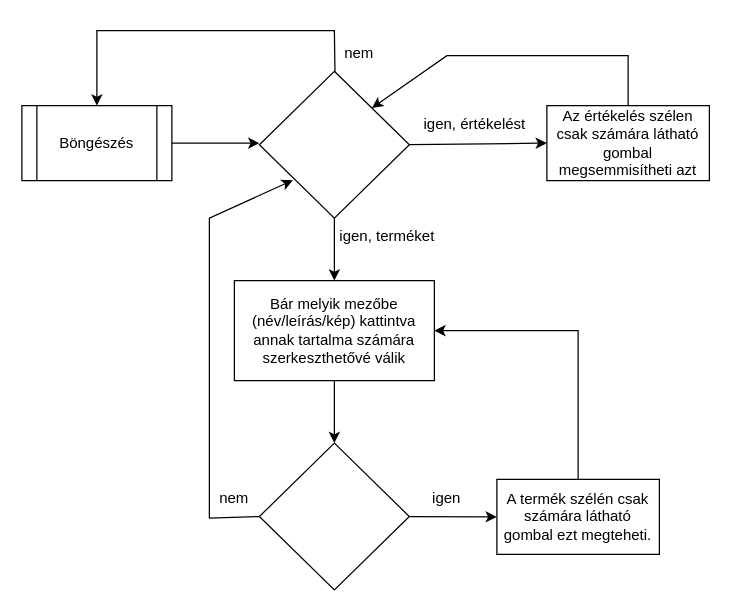
The diagram is 731 pixels wide and 613 high, and some of its shapes have lost their labels. Here are the shapes that lost their labels. From the top down, the centre of each, then its label:
[333,144]: A moderátor felül akar bírálni valamit?
[333,516]: Véglegesíteni szeretné a módosításait?
